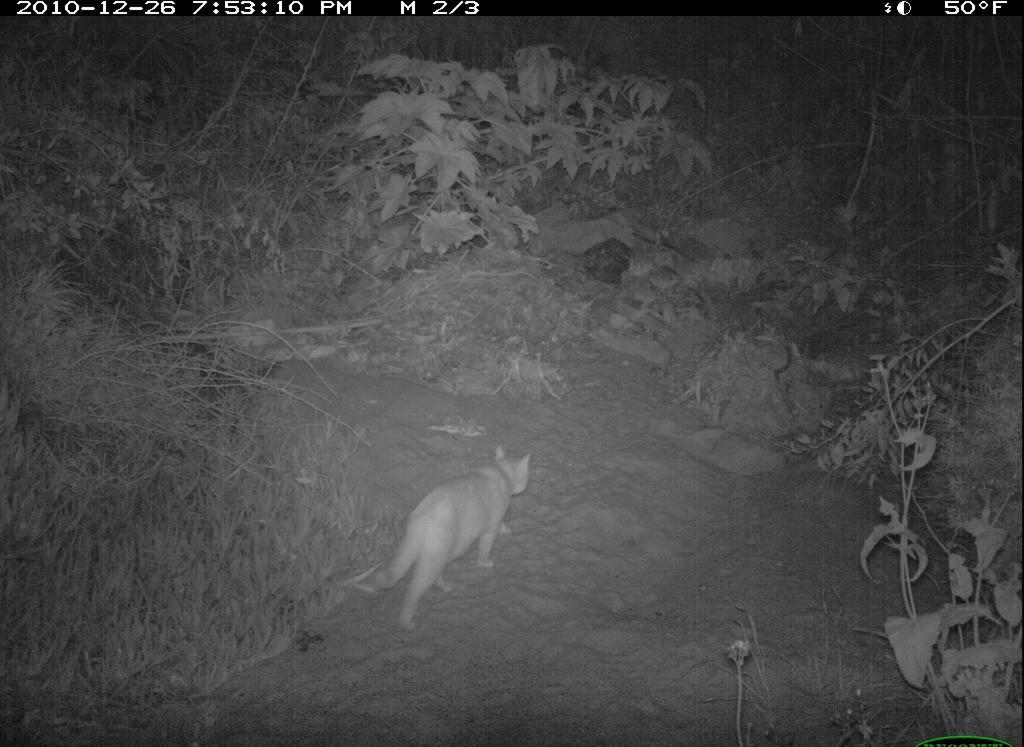cat: (365, 441, 538, 638)
